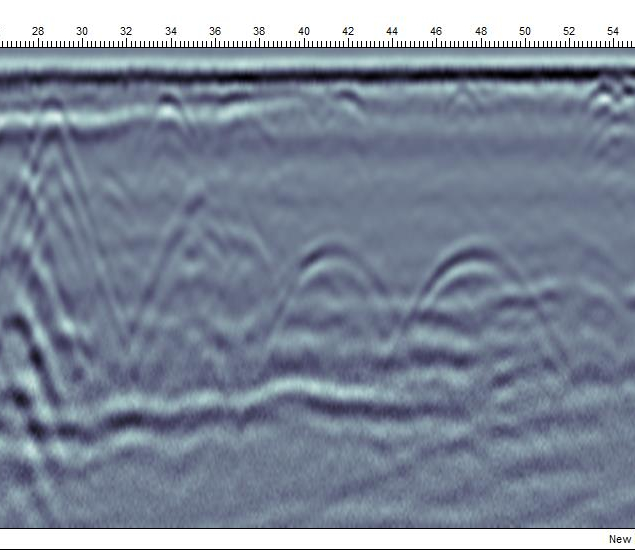hyperbola: (263, 233, 393, 356), (411, 224, 541, 333), (7, 93, 99, 244), (139, 87, 202, 165)
